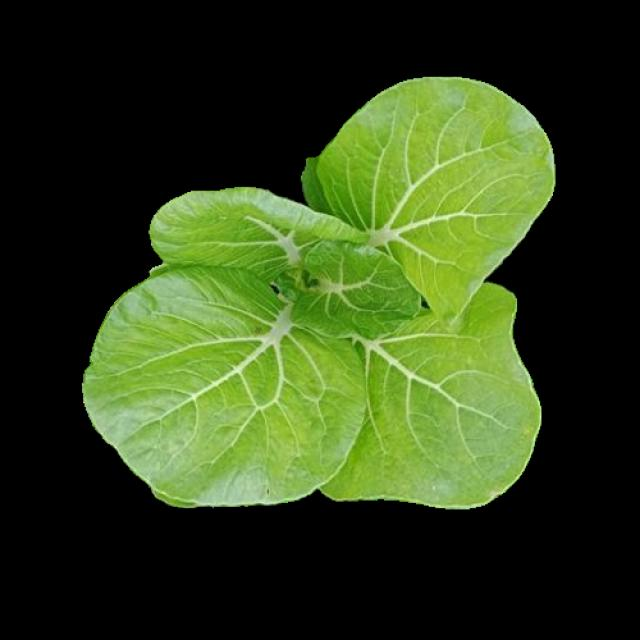healthy: (89, 77, 552, 508)
mature: (88, 76, 554, 510)
